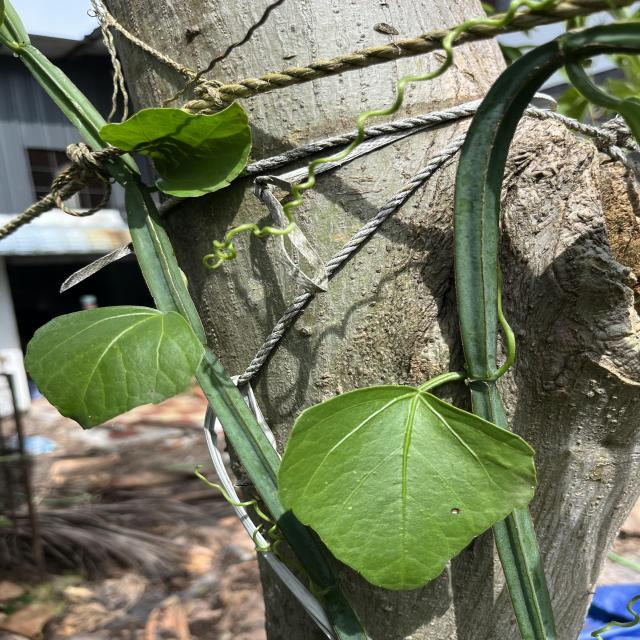Cissus quadrangularis: (274, 382, 540, 593), (21, 303, 209, 433)
